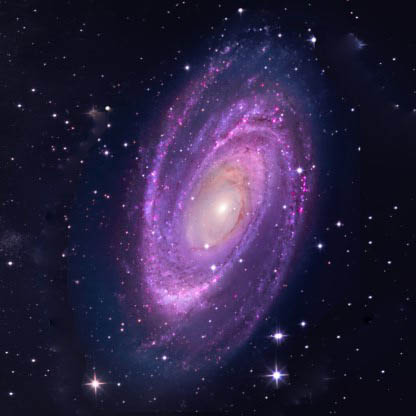Messier 81: (86, 17, 328, 395)
